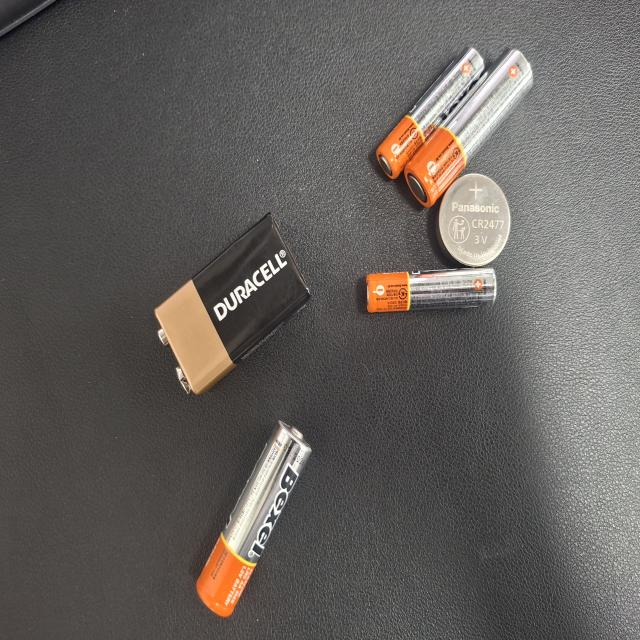9V: (158, 436, 294, 640)
AA: (319, 439, 462, 591), (38, 145, 150, 314)
AAA: (36, 208, 134, 352), (201, 190, 234, 368)
COIN: (129, 172, 200, 272)
